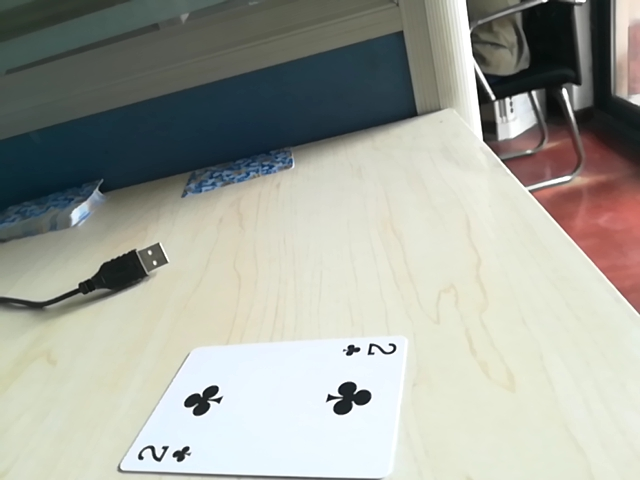mh 2: (126, 445, 197, 473), (338, 337, 398, 363)
